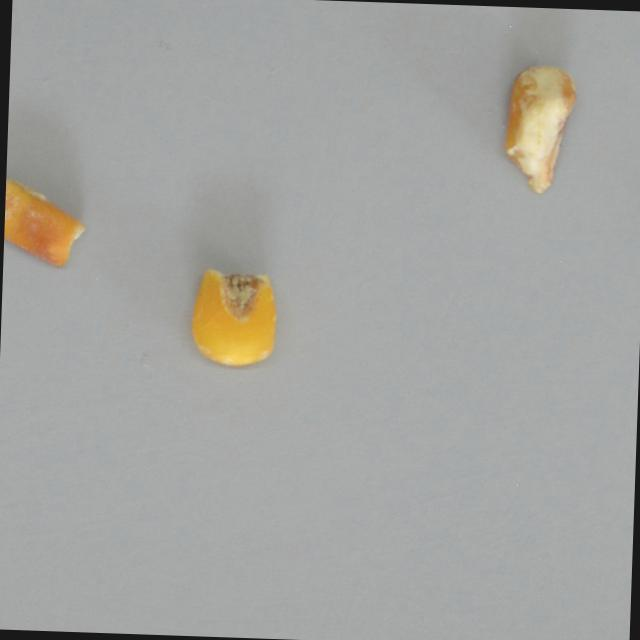dañado: (493, 64, 583, 189), (180, 268, 291, 367), (2, 176, 91, 271)
